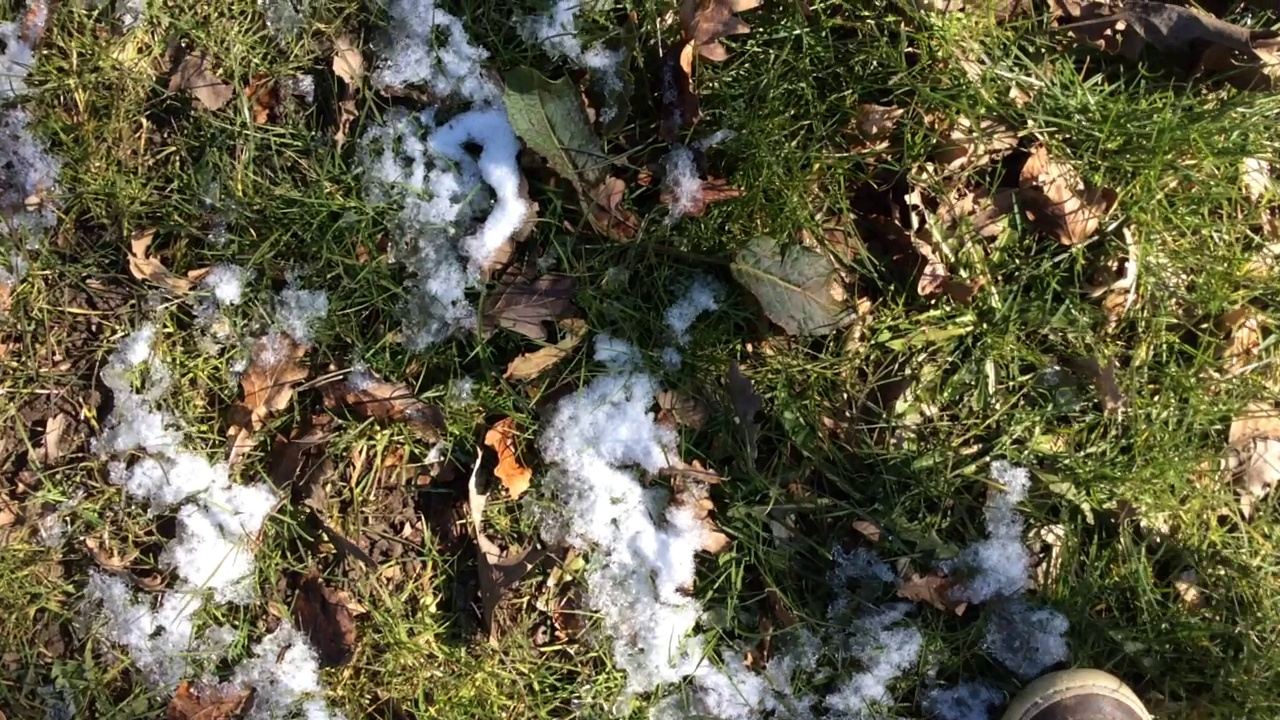root: (619, 204, 705, 269)
rumex: (498, 60, 859, 348)
